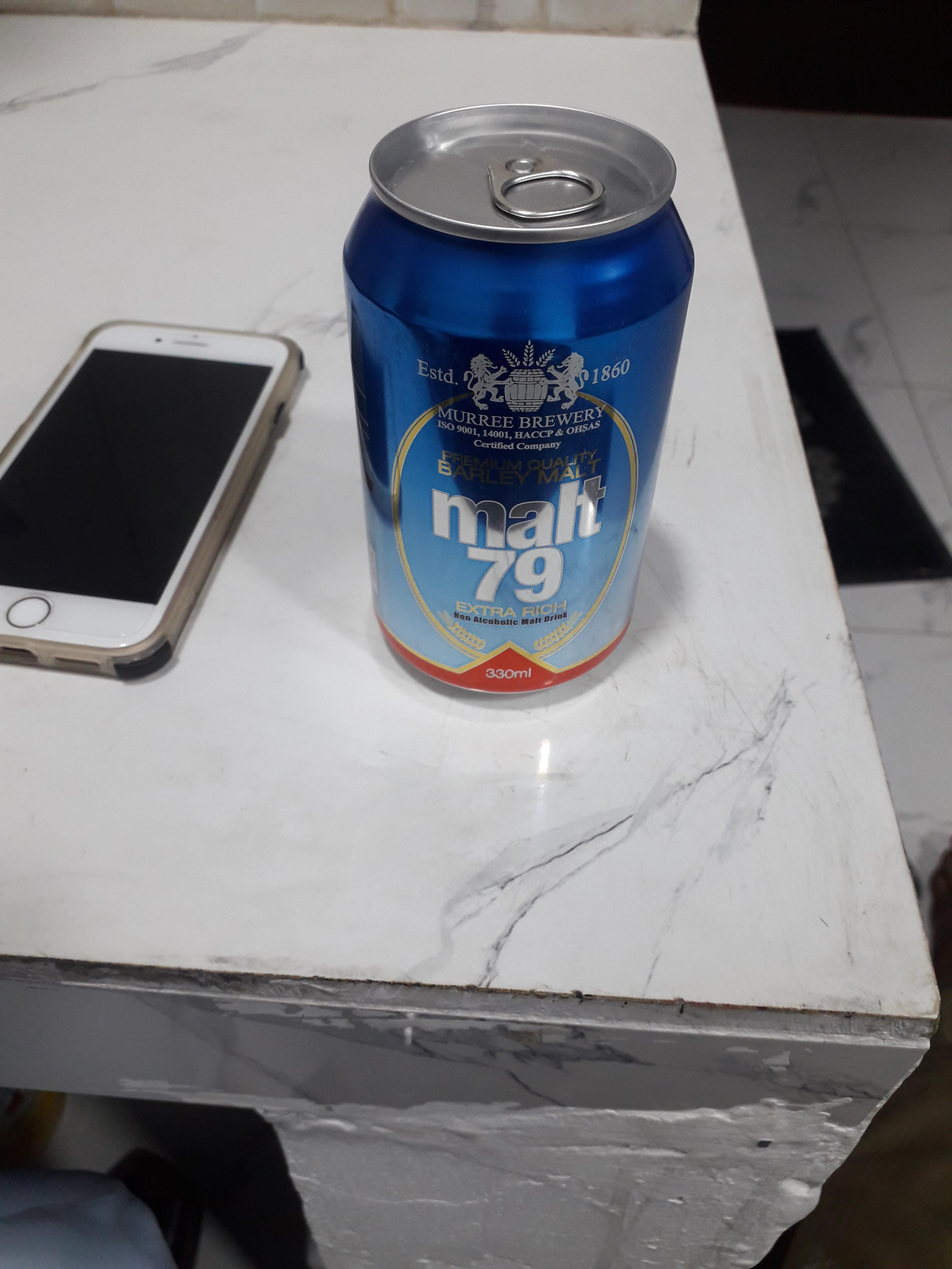tin can: (343, 93, 695, 708)
